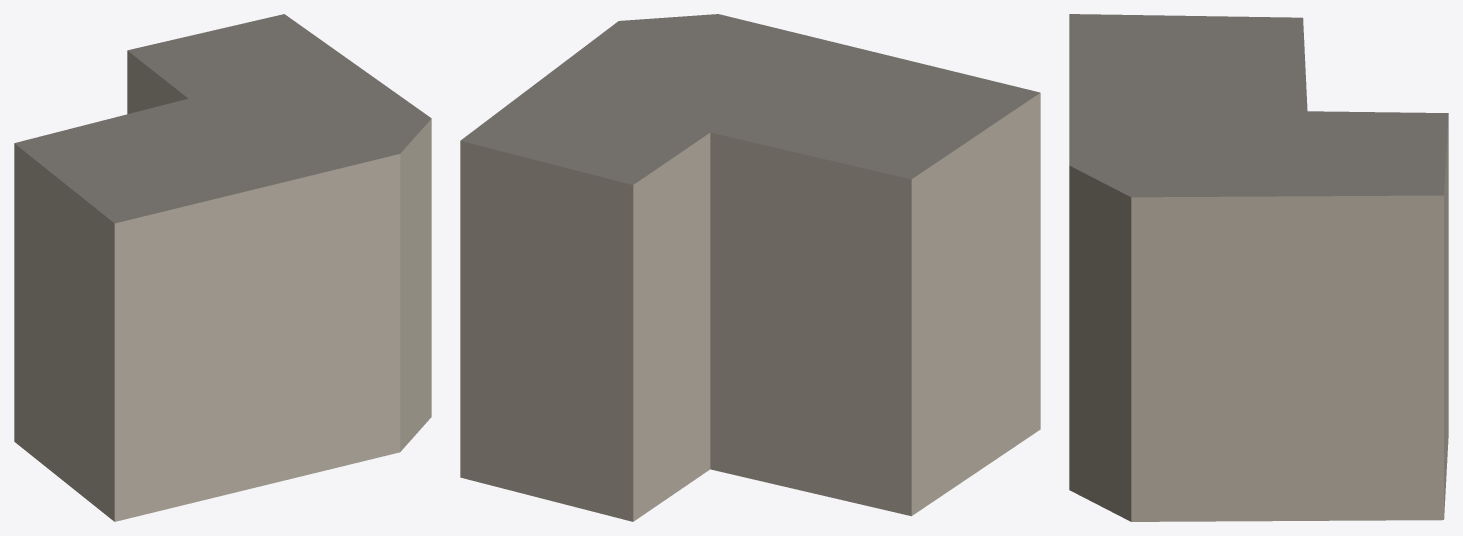
3 views of the same model, side by side, from view 1: azimuth 30°, elevation 25°; view 2: azimuth 150°, elevation 25°; view 3: azimuth 270°, elevation 25° (orthographic). The views are drawn at different scales.
Visible parts, largest first — view 1: HP-w729793450; view 2: HP-w729793450; view 3: HP-w729793450.
Boxes of the visible parts, bbox=[...] form: HP-w729793450: bbox=[14, 14, 431, 521]; HP-w729793450: bbox=[460, 14, 1040, 521]; HP-w729793450: bbox=[1069, 14, 1448, 521].
Size of the model in its own units: 21.8 by 18 by 19.05.
